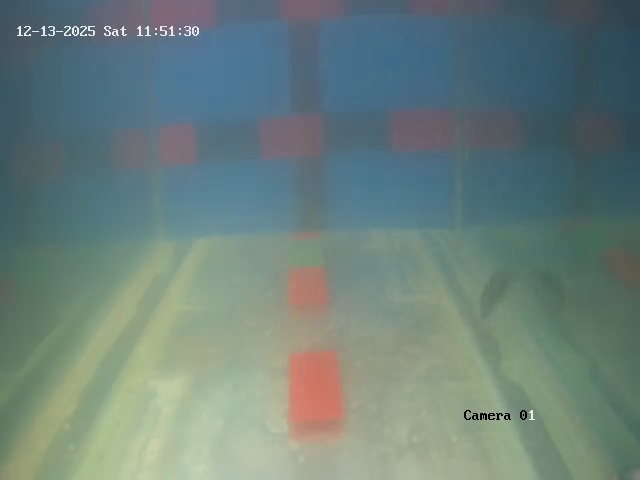fish: (477, 264, 524, 317)
